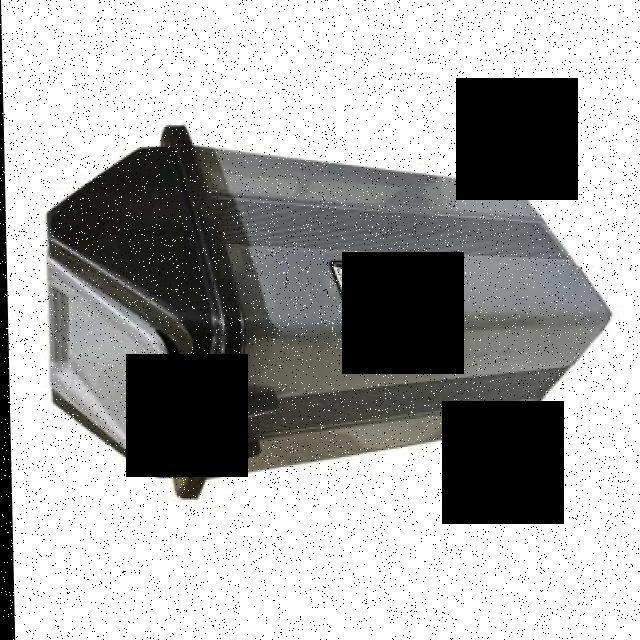bin: (32, 103, 631, 507)
